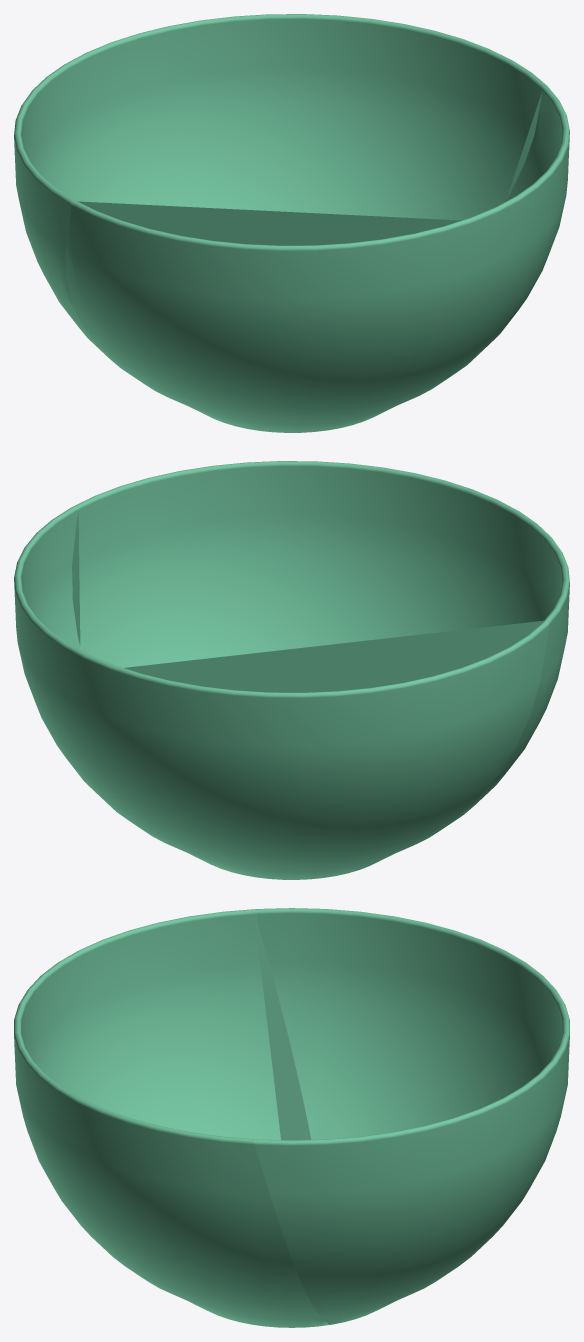
File: Cup_02.fbx
The picture shows the model from 3 angles, top to bottom: view 1: azimuth 30°, elevation 25°; view 2: azimuth 150°, elevation 25°; view 3: azimuth 270°, elevation 25°; orthographic projection.
Parts seen in each view (by area): view 1: Cup2; view 2: Cup2; view 3: Cup2.
Boxes of the visible parts, x1=… form: Cup2: x1=14, y1=14, x2=569, y2=432; Cup2: x1=14, y1=461, x2=569, y2=879; Cup2: x1=14, y1=908, x2=569, y2=1327.
Size of the model in its own units: 2115 by 1082 by 2111.
